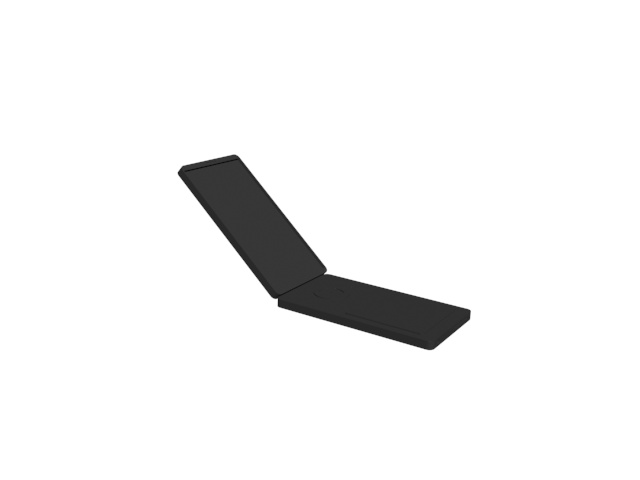mobile_phone: (177, 153, 472, 352)
